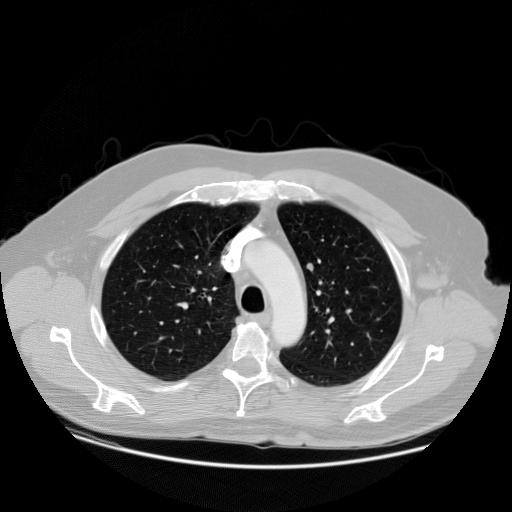nodule: (304, 260, 317, 273)
